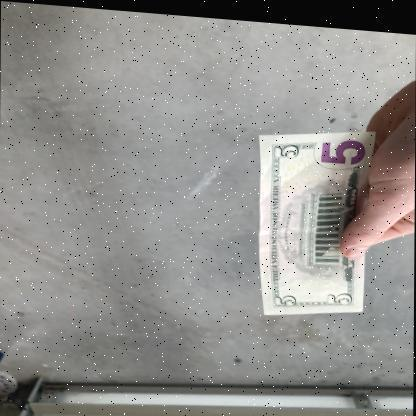five-back: (258, 124, 375, 310)
